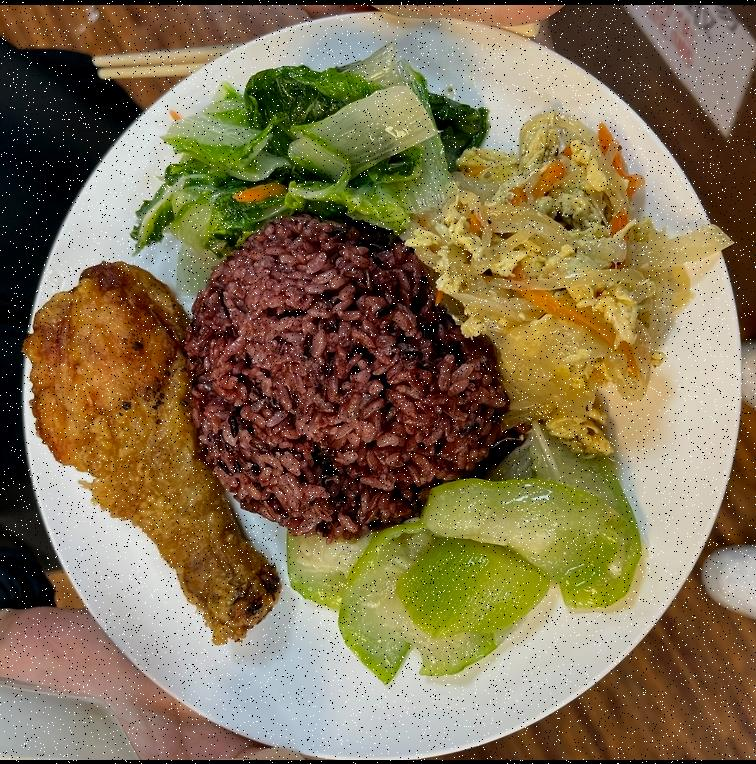plate: (13, 11, 739, 752)
purple rice: (172, 211, 504, 538)
side dish: (410, 112, 711, 440), (291, 424, 635, 689), (126, 48, 498, 253)
small fried chicken leg: (16, 251, 290, 658)
